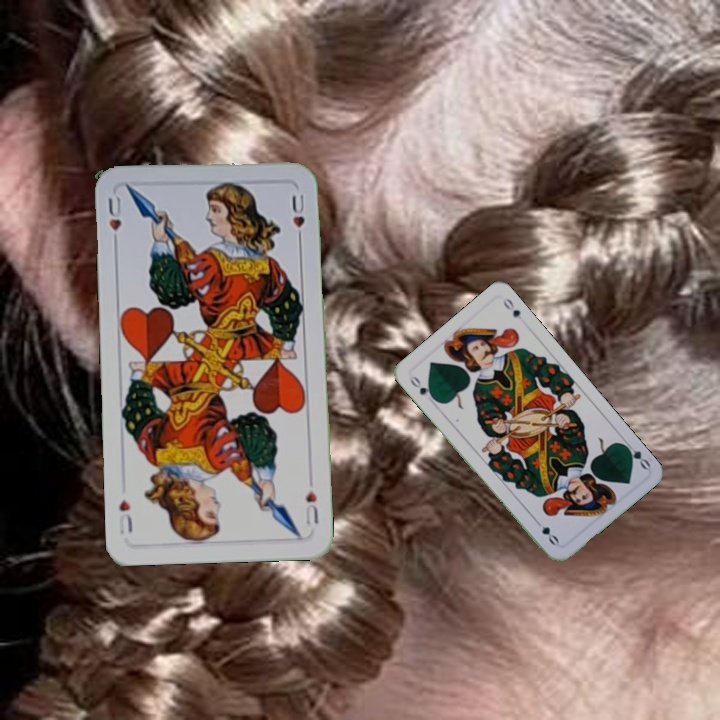GO: (619, 437, 653, 472), (405, 371, 438, 403)
HU: (104, 190, 124, 250), (301, 486, 321, 528)
